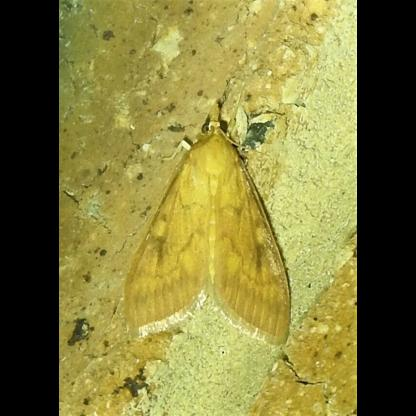Asian Corn Borer Moth: (121, 79, 295, 351)
